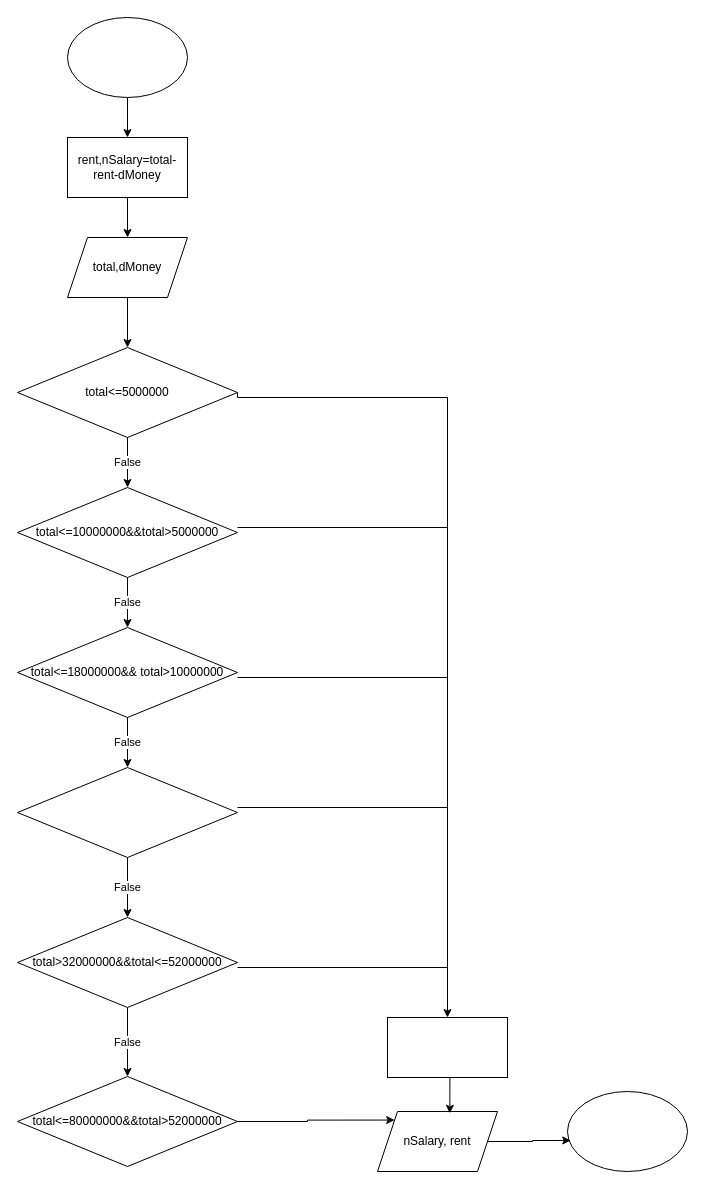
Image size: 705x1189. Some labels were removed from this diagram. The shapes that lost their labels are listed below. From the top down, each one's centre as x and y in pixels, then its label:
At [127,57]: "Start".
At [127,812]: "total<=32000000&&total>18000000".
At [447,1047]: "rent=total*(phần trăm định trước) nSalary=total-dMoney-rent".
At [627,1131]: "End".
